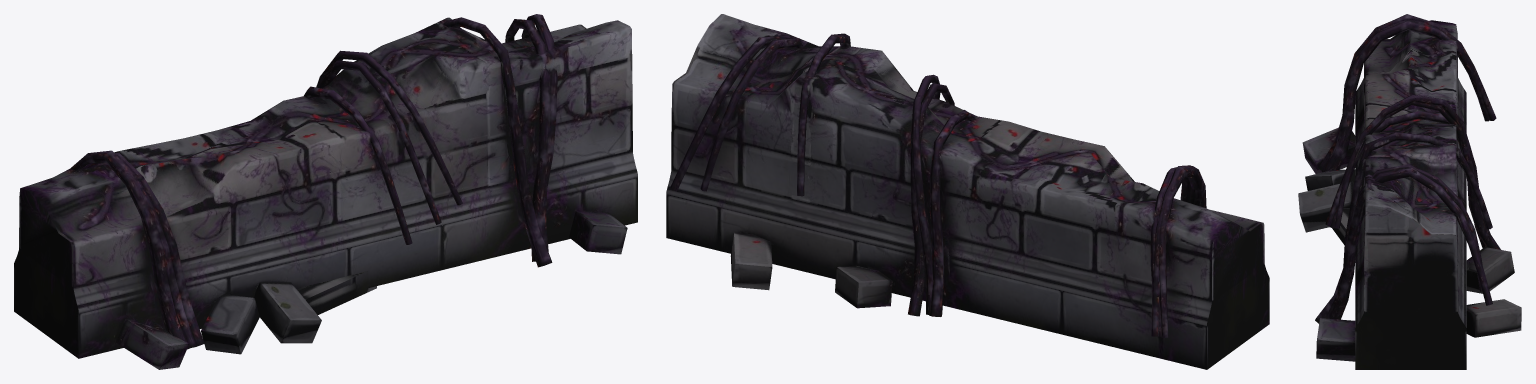
The model's file is thorn_wall_low.glb.
3 views of the same model, side by side, from view 1: azimuth 30°, elevation 25°; view 2: azimuth 150°, elevation 25°; view 3: azimuth 270°, elevation 25° (orthographic). The views are drawn at different scales.
Parts seen in each view (by area): view 1: thorn_wall_low; view 2: thorn_wall_low; view 3: thorn_wall_low.
Part boxes in pixels (x1,y1,x2,y2): thorn_wall_low: [14, 14, 637, 369]; thorn_wall_low: [666, 14, 1269, 369]; thorn_wall_low: [1298, 14, 1521, 369].
Size of the model in its own units: 4 by 1.54 by 1.61.
1 material, 1 textured.
